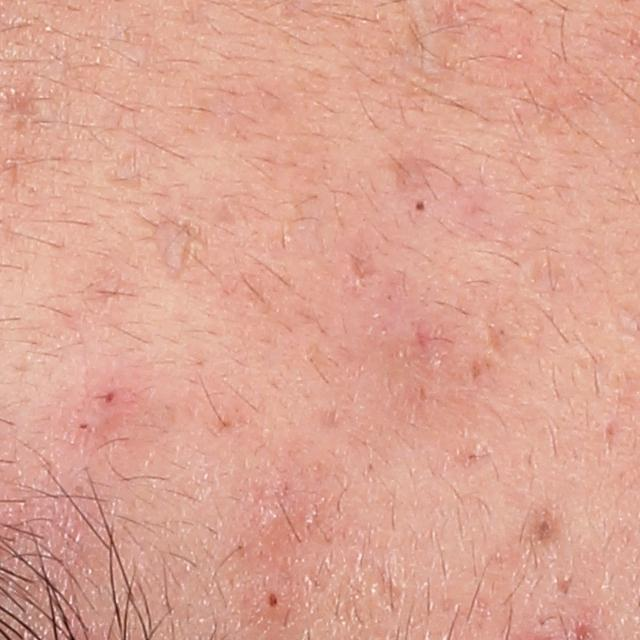atrophic_scar: (348, 250, 384, 283)
comedo: (402, 193, 434, 217), (527, 513, 555, 538), (261, 589, 282, 611)
